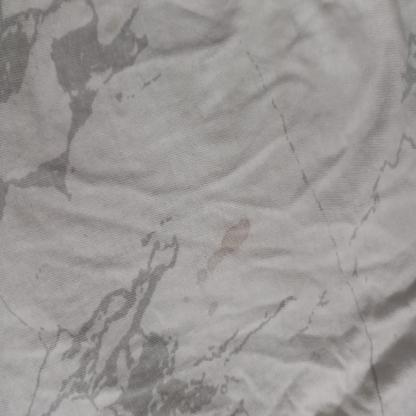spot: (185, 197, 259, 333)
